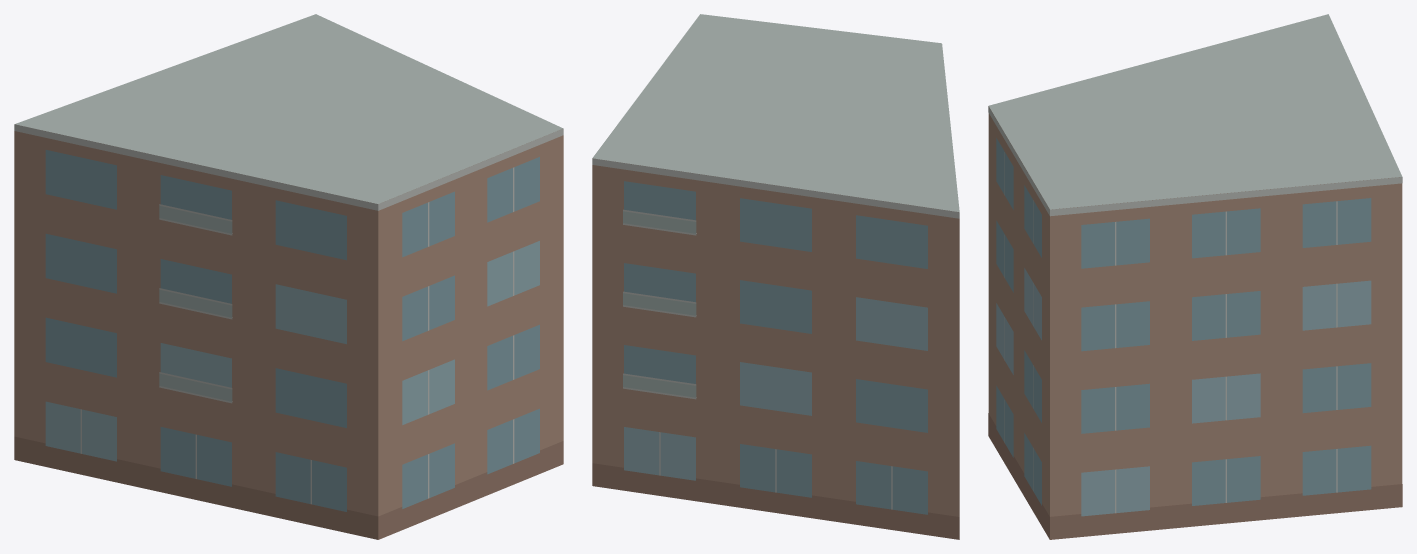
File: residential-4d1e6c68-7a61-4609-ae0a-2e73ff9ef8f9.glb
The picture shows the model from 3 angles, left to right: view 1: azimuth 30°, elevation 25°; view 2: azimuth 150°, elevation 25°; view 3: azimuth 270°, elevation 25°; orthographic projection. The views are drawn at different scales.
Parts seen in each view (by area): view 1: residential-4d1e6c68-7a61-4609-ae0a-2e73ff9ef8f9.tmp; view 2: residential-4d1e6c68-7a61-4609-ae0a-2e73ff9ef8f9.tmp; view 3: residential-4d1e6c68-7a61-4609-ae0a-2e73ff9ef8f9.tmp.
Boxes of the visible parts, box(x1,y1,x2,y2) form: residential-4d1e6c68-7a61-4609-ae0a-2e73ff9ef8f9.tmp: box(14, 14, 563, 539); residential-4d1e6c68-7a61-4609-ae0a-2e73ff9ef8f9.tmp: box(592, 14, 959, 539); residential-4d1e6c68-7a61-4609-ae0a-2e73ff9ef8f9.tmp: box(988, 14, 1402, 539).
Bounding box in the file's own units: 15.51 × 12.2 × 13.87.
